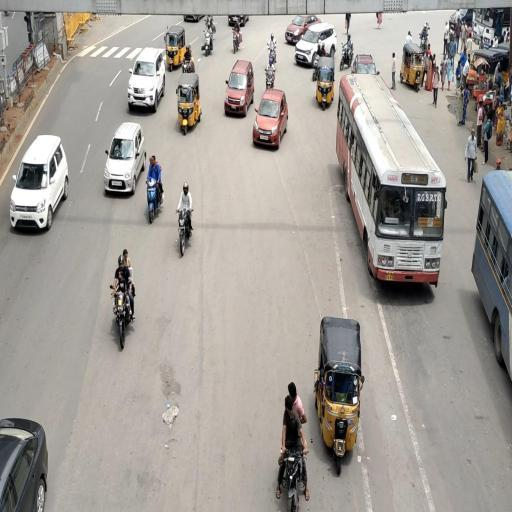helmet: (177, 174, 218, 290), (109, 247, 140, 348)
no helmet: (265, 380, 344, 512)
